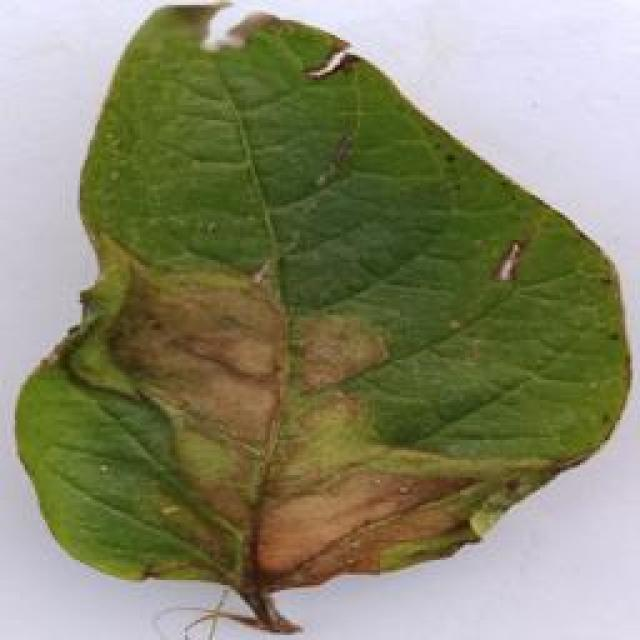Potato_Late_Blight: (14, 2, 616, 629)
